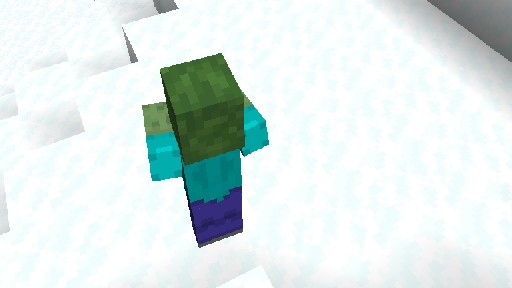zombie: (141, 52, 269, 254)
